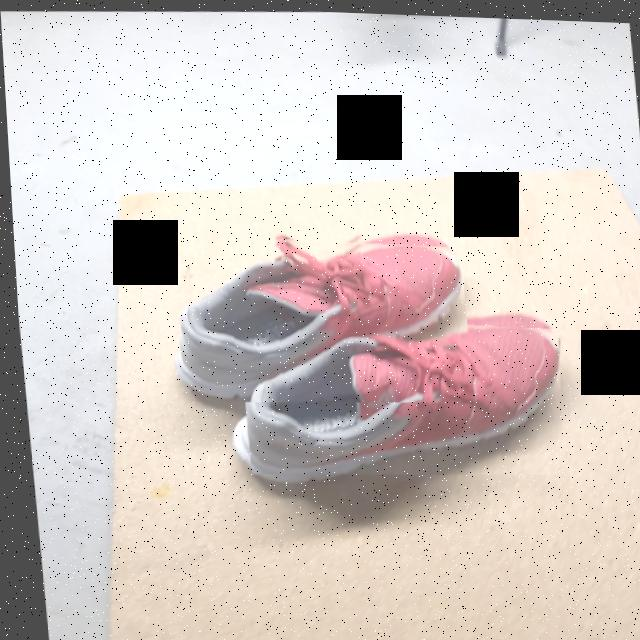shoe: (241, 320, 555, 472), (175, 237, 459, 400)
